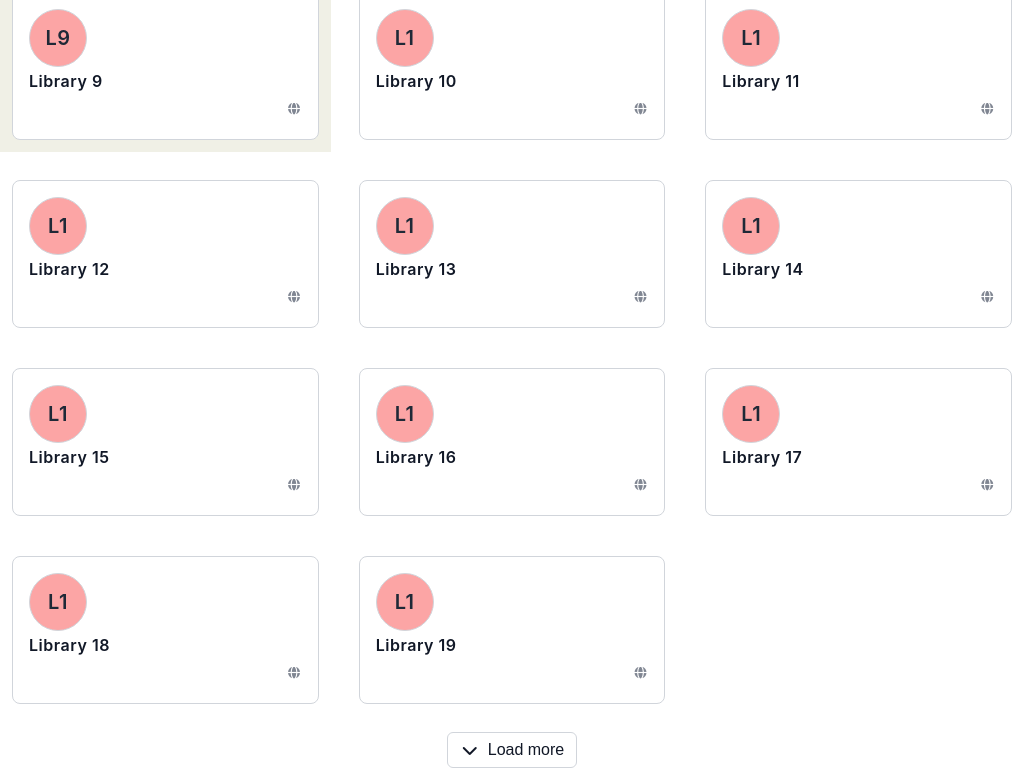
LibraryView › loads the next page
(page scrolled)
Click the button "Load more" at (512, 750), box left=447, top=732, right=577, bottom=767
(page scrolled)
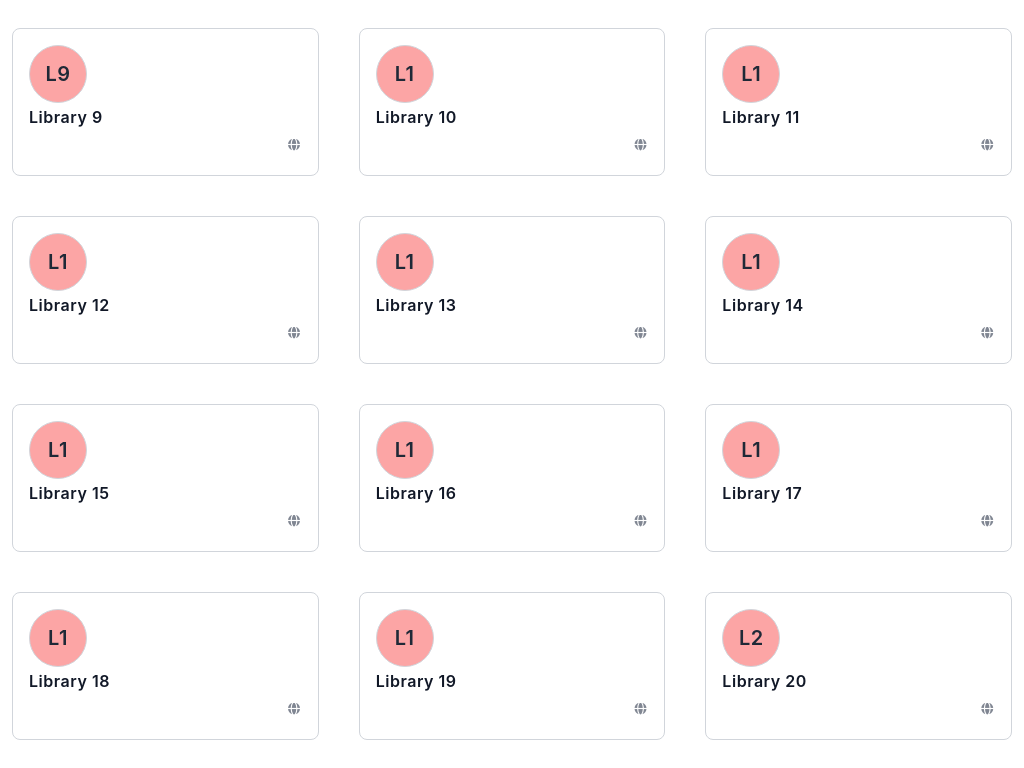
Expected: the text "Library 19" is shown, left=376, top=671, right=457, bottom=691
Now the text "Library 20" is shown, box left=722, top=671, right=807, bottom=691
